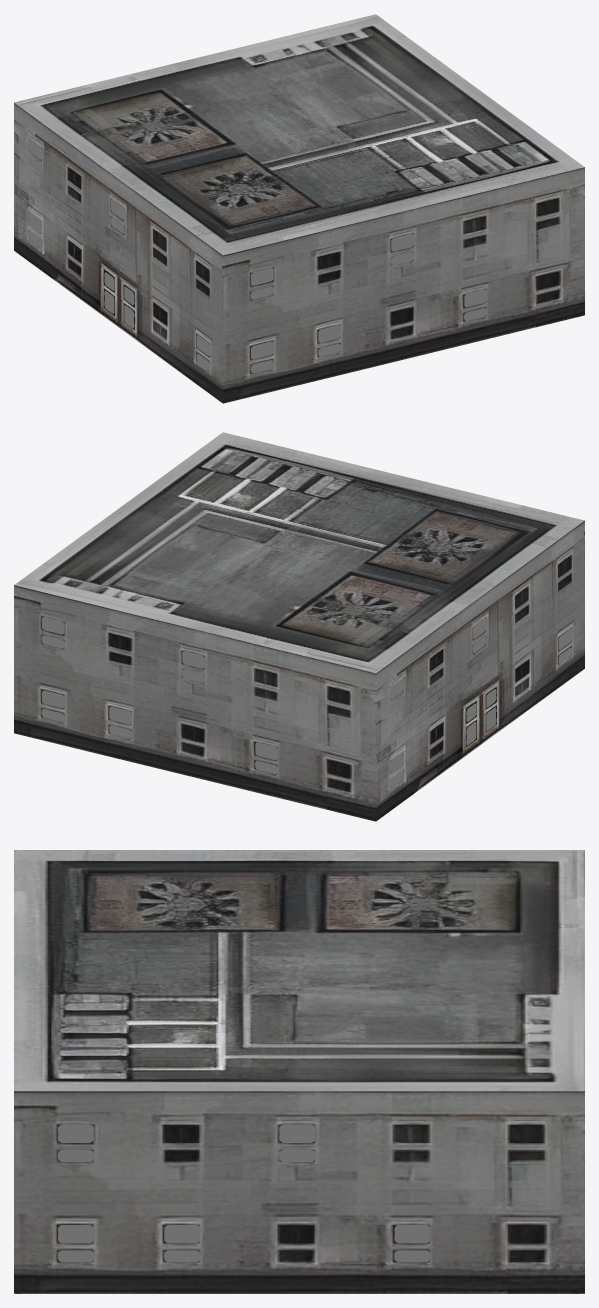
File: city2storyb_hdtex.glb
3 renders of one model, top to bottom at view 1: azimuth 30°, elevation 25°; view 2: azimuth 150°, elevation 25°; view 3: azimuth 270°, elevation 25°, orthographic. The views are drawn at different scales.
Parts seen in each view (by area): view 1: City2StoryA, LitWin_City2Story; view 2: City2StoryA, LitWin_City2Story; view 3: City2StoryA, LitWin_City2Story.
Part boxes in pixels (left/top/right/bottom): City2StoryA: left=14, top=14, right=584, bottom=403; LitWin_City2Story: left=28, top=138, right=486, bottom=373; City2StoryA: left=14, top=432, right=584, bottom=821; LitWin_City2Story: left=41, top=617, right=571, bottom=786; City2StoryA: left=14, top=850, right=584, bottom=1293; LitWin_City2Story: left=58, top=1124, right=430, bottom=1262.
Size of the model in its own units: 17.76 by 6.95 by 17.76.
Materials: 1 (1 with a texture image).
